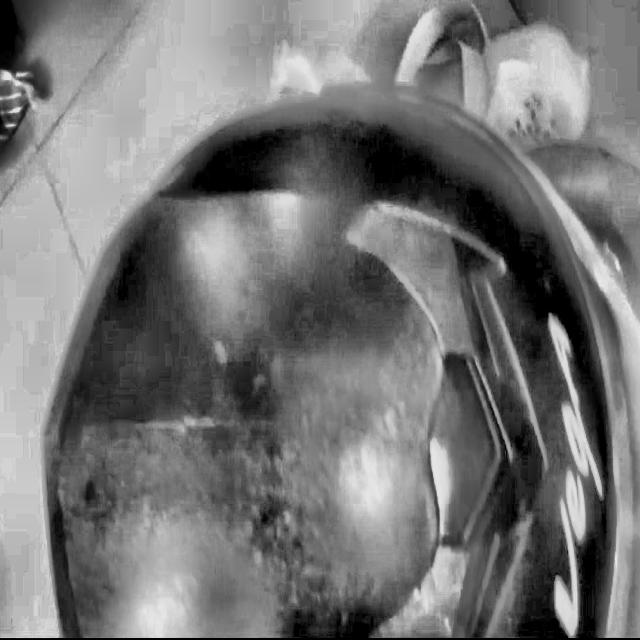Helmet: (29, 74, 624, 640)
